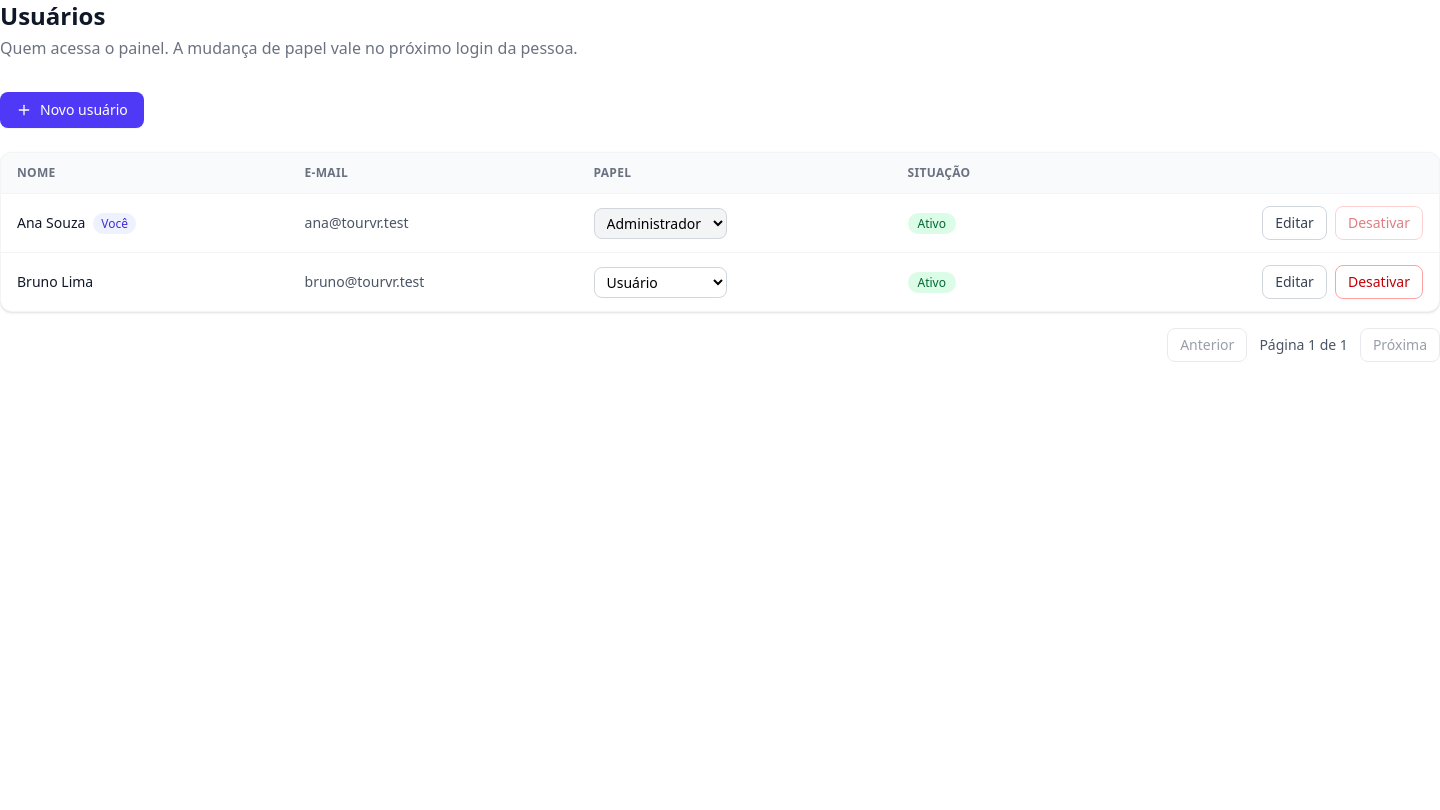
UsersPage — editar usuario › erro do backend aparece na janela, que continua aberta
Expected: the text "bruno@tourvr.test" is shown, [288,252,578,311]
Click the button "Editar" in the row of "Bruno Lima". click: (1295, 282)
box: [1262,265,1327,299]
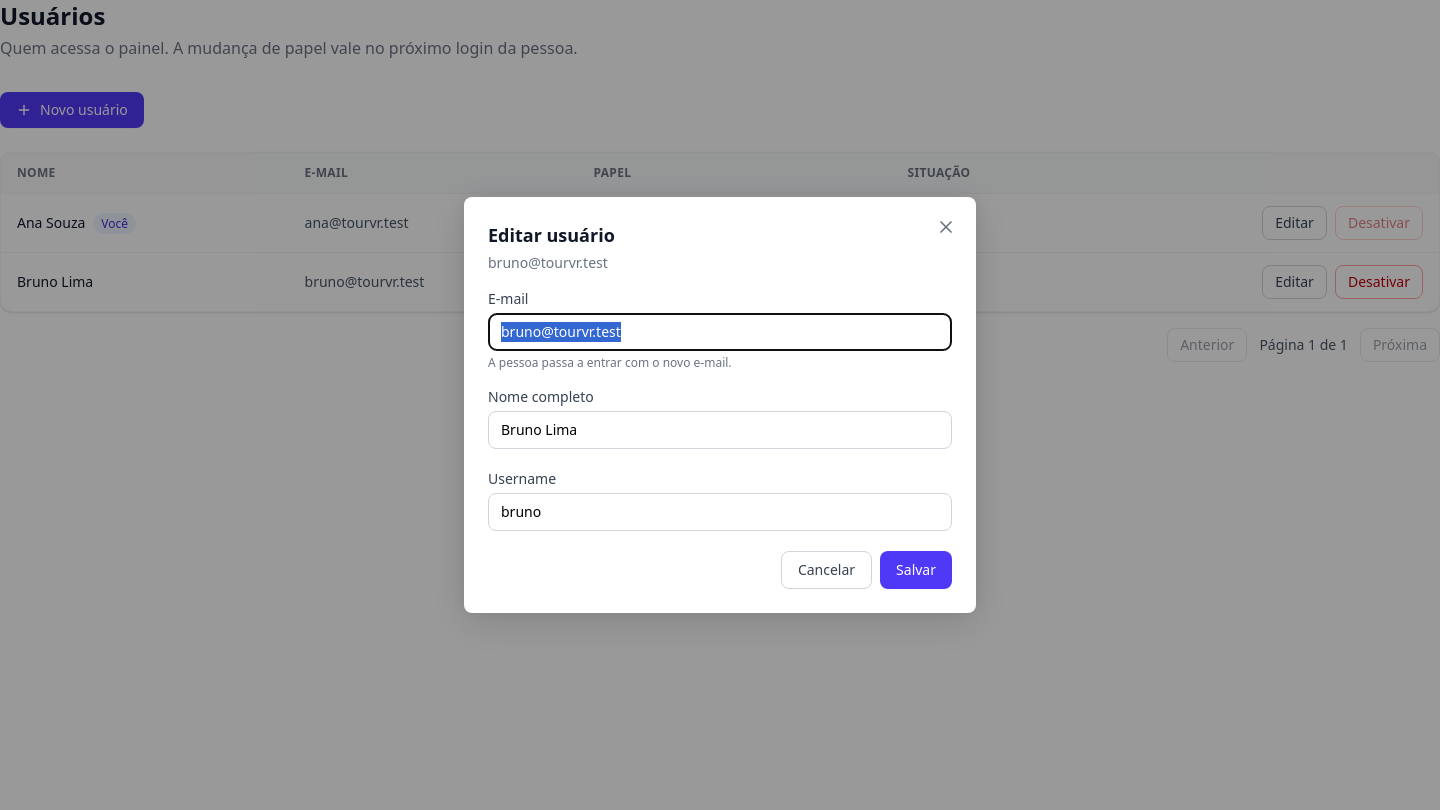
Click the button "Salvar". click: (916, 570)
box: [880,551,952,589]
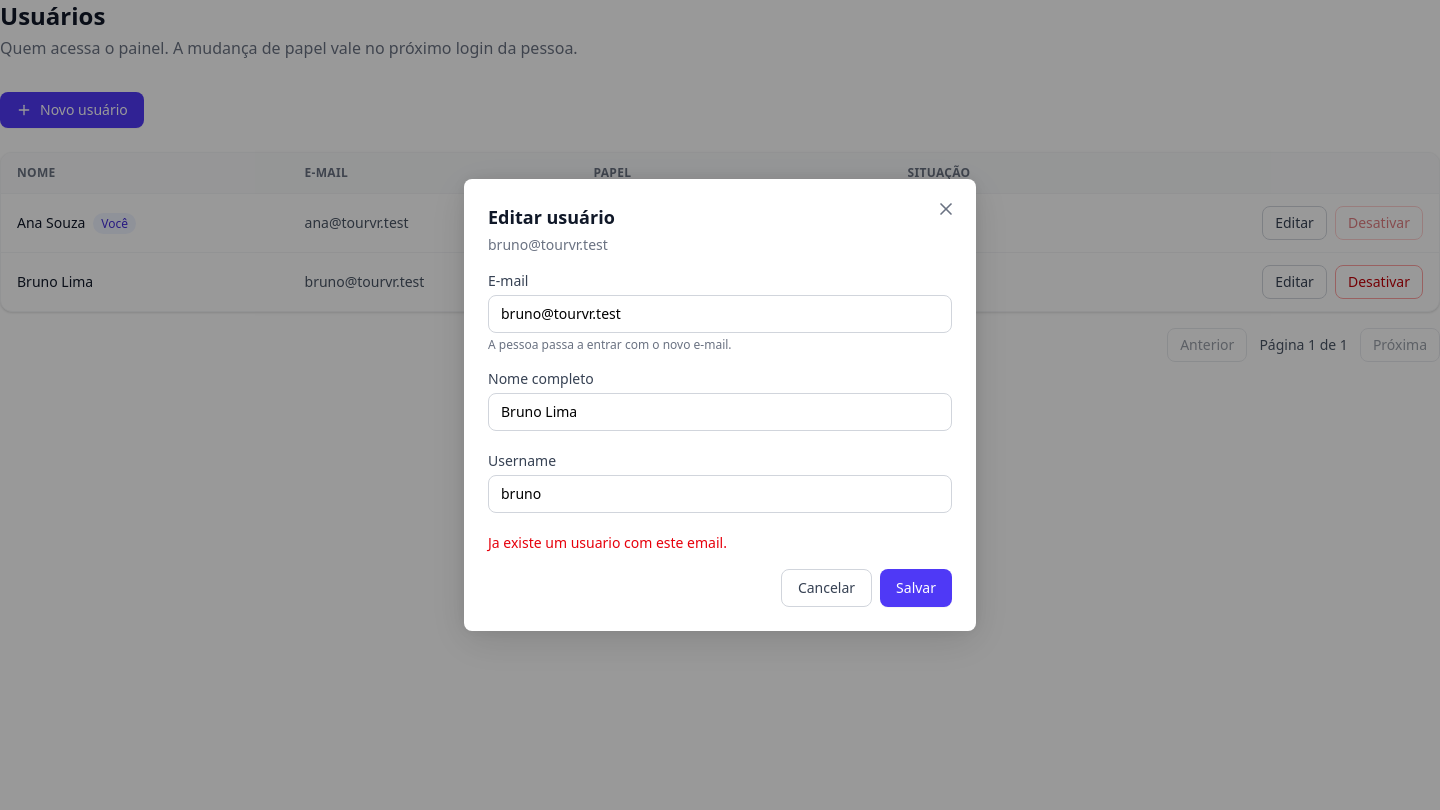
Result: the dialog is shown at [464,179,976,631]
Result: the message shows "Ja existe um usuario" at [488,533,727,552]
